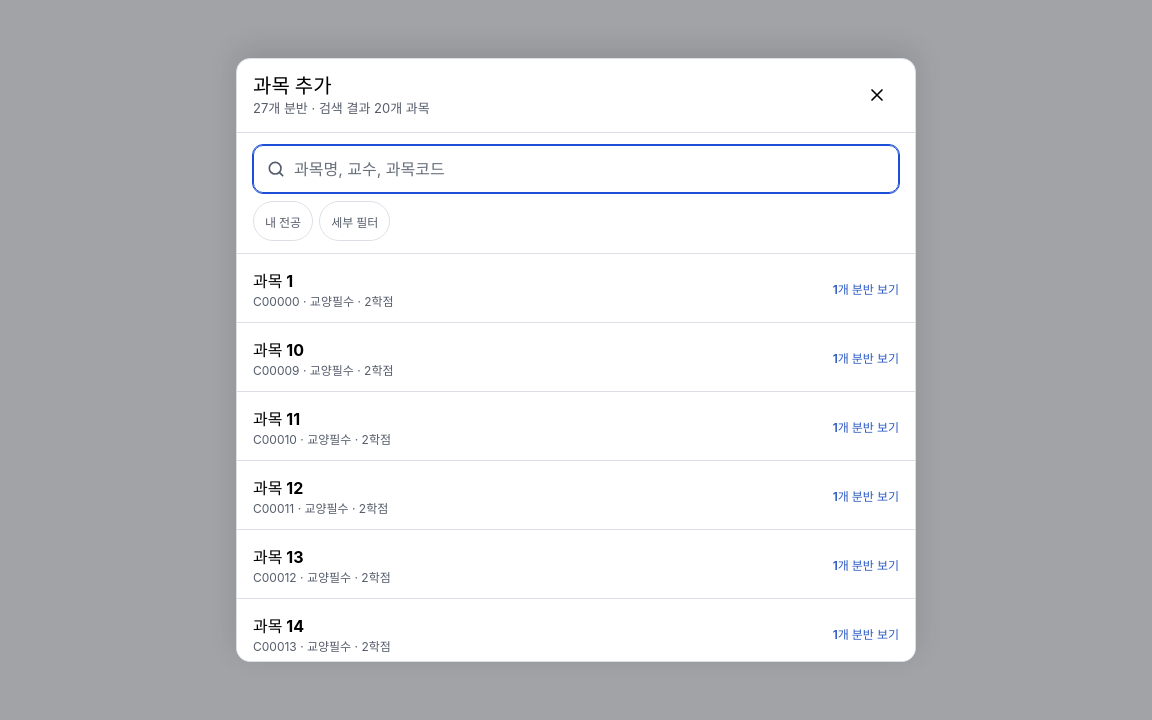
Test: course search sheet › puts the saved department first and provides a one-tap major filter
The width and height of the screenshot is (1152, 720).
Click the button "세부 필터": (355, 221) [319,201,390,241]
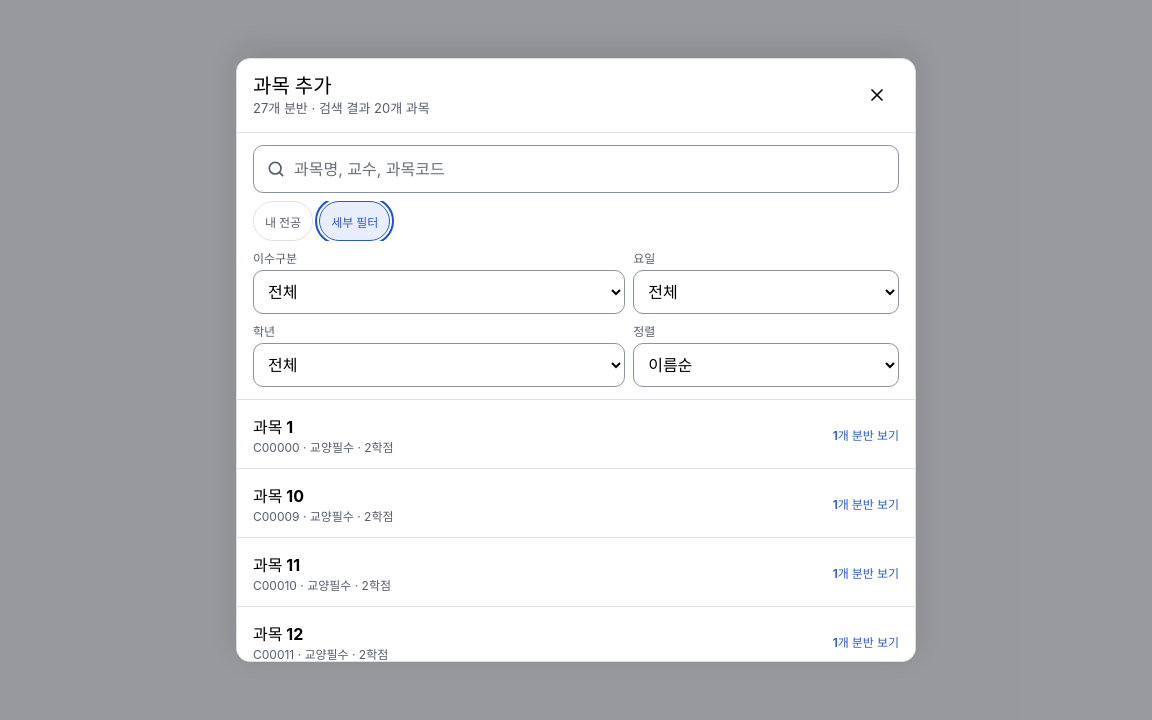
Click the button "내 전공": (283, 221) [253,201,313,241]
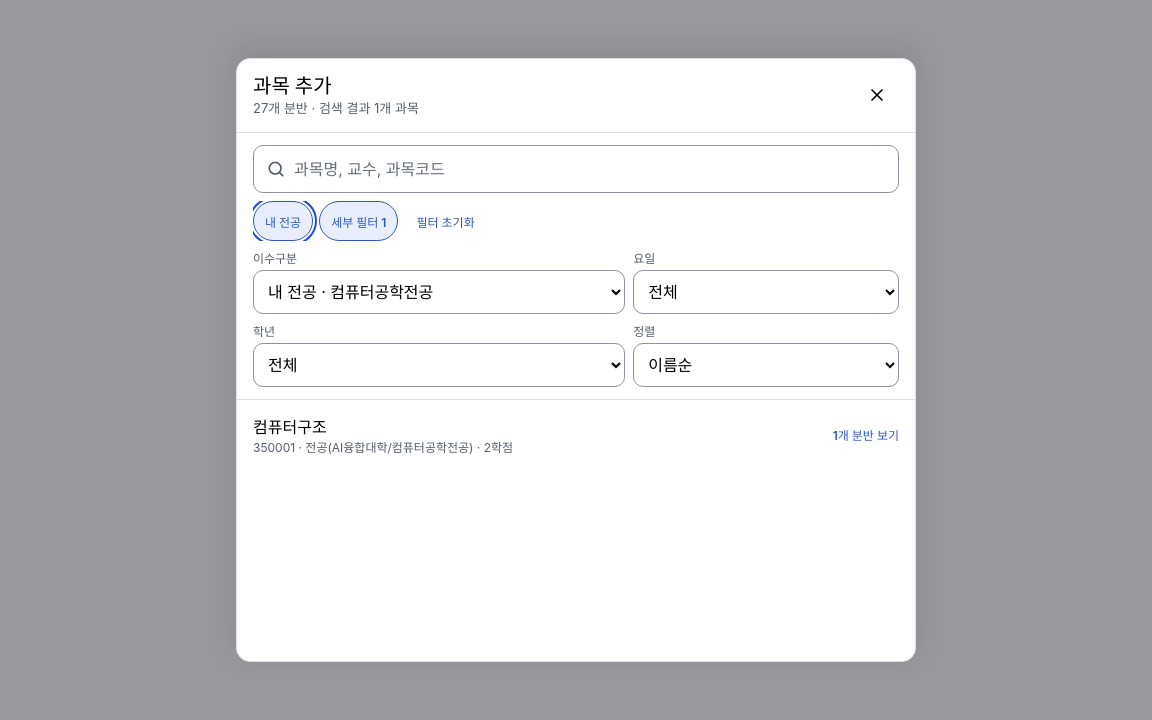
Now the dropdown labelled "이수구분" shows "내 전공 · 컴퓨터공학전공", box [253,270,625,314]
Now the number of buttons "컴퓨터구조 350001 · 전공(AI융합대학/컴퓨터공학전공) · 2학점 1개 분반 보기" is 1, box [237,400,915,468]
Click the button "내 전공": (283, 221) [253,201,313,241]
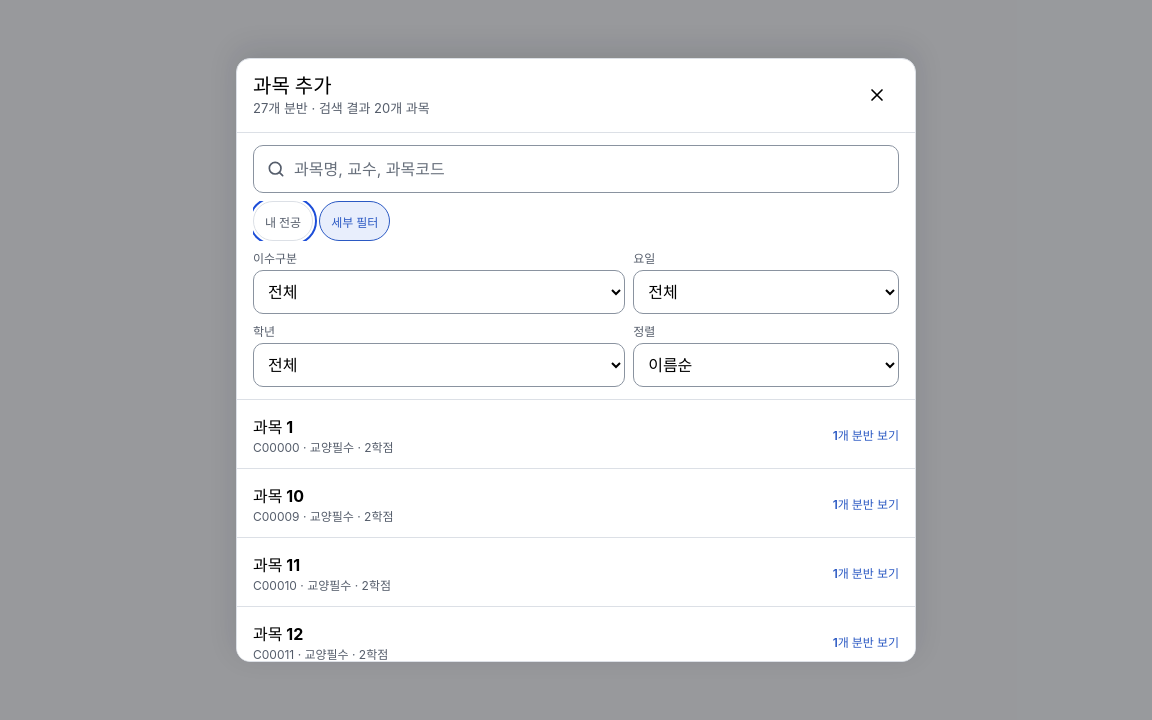
Now the dropdown labelled "이수구분" shows "전체", box [253,270,625,314]
